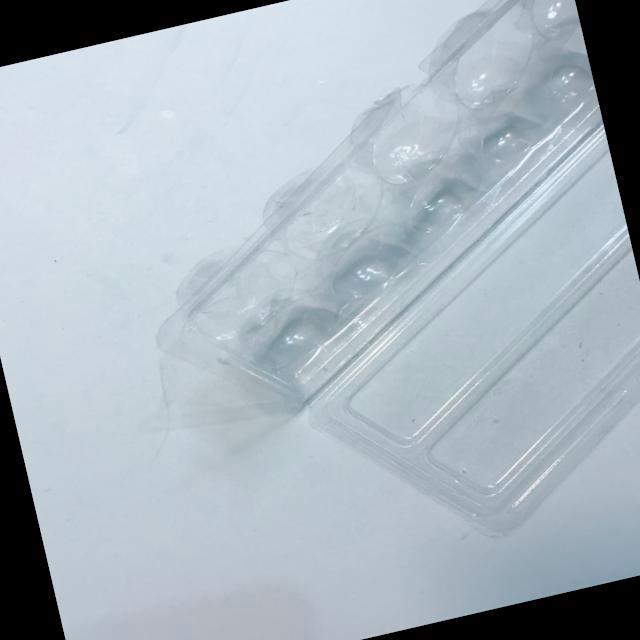plastic: (44, 0, 640, 624)
